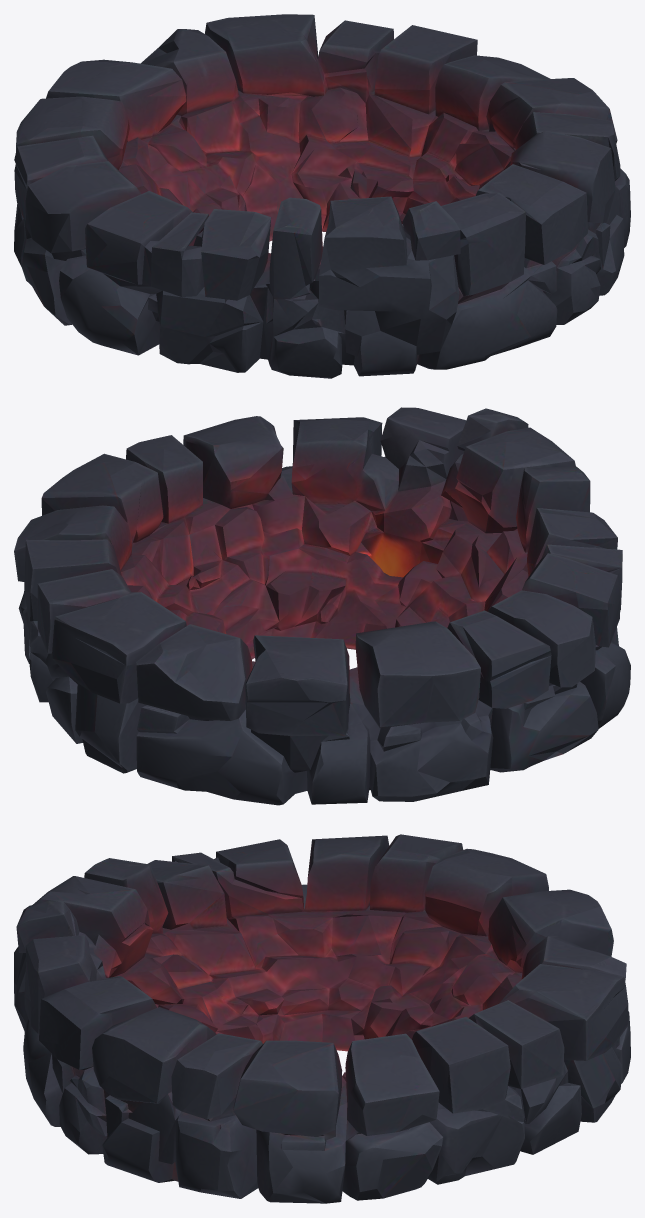
File: lava-geyser.glb
3 renders of one model, top to bottom at view 1: azimuth 30°, elevation 25°; view 2: azimuth 150°, elevation 25°; view 3: azimuth 270°, elevation 25°, orthographic. The views are drawn at different scales.
Size of the model in its own units: 1.9 by 0.5457 by 1.89.
1 material, 1 textured.
